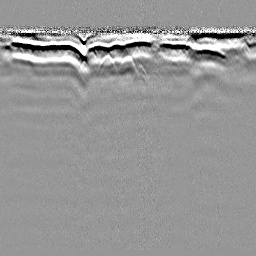cavity: (118, 55, 139, 75)
